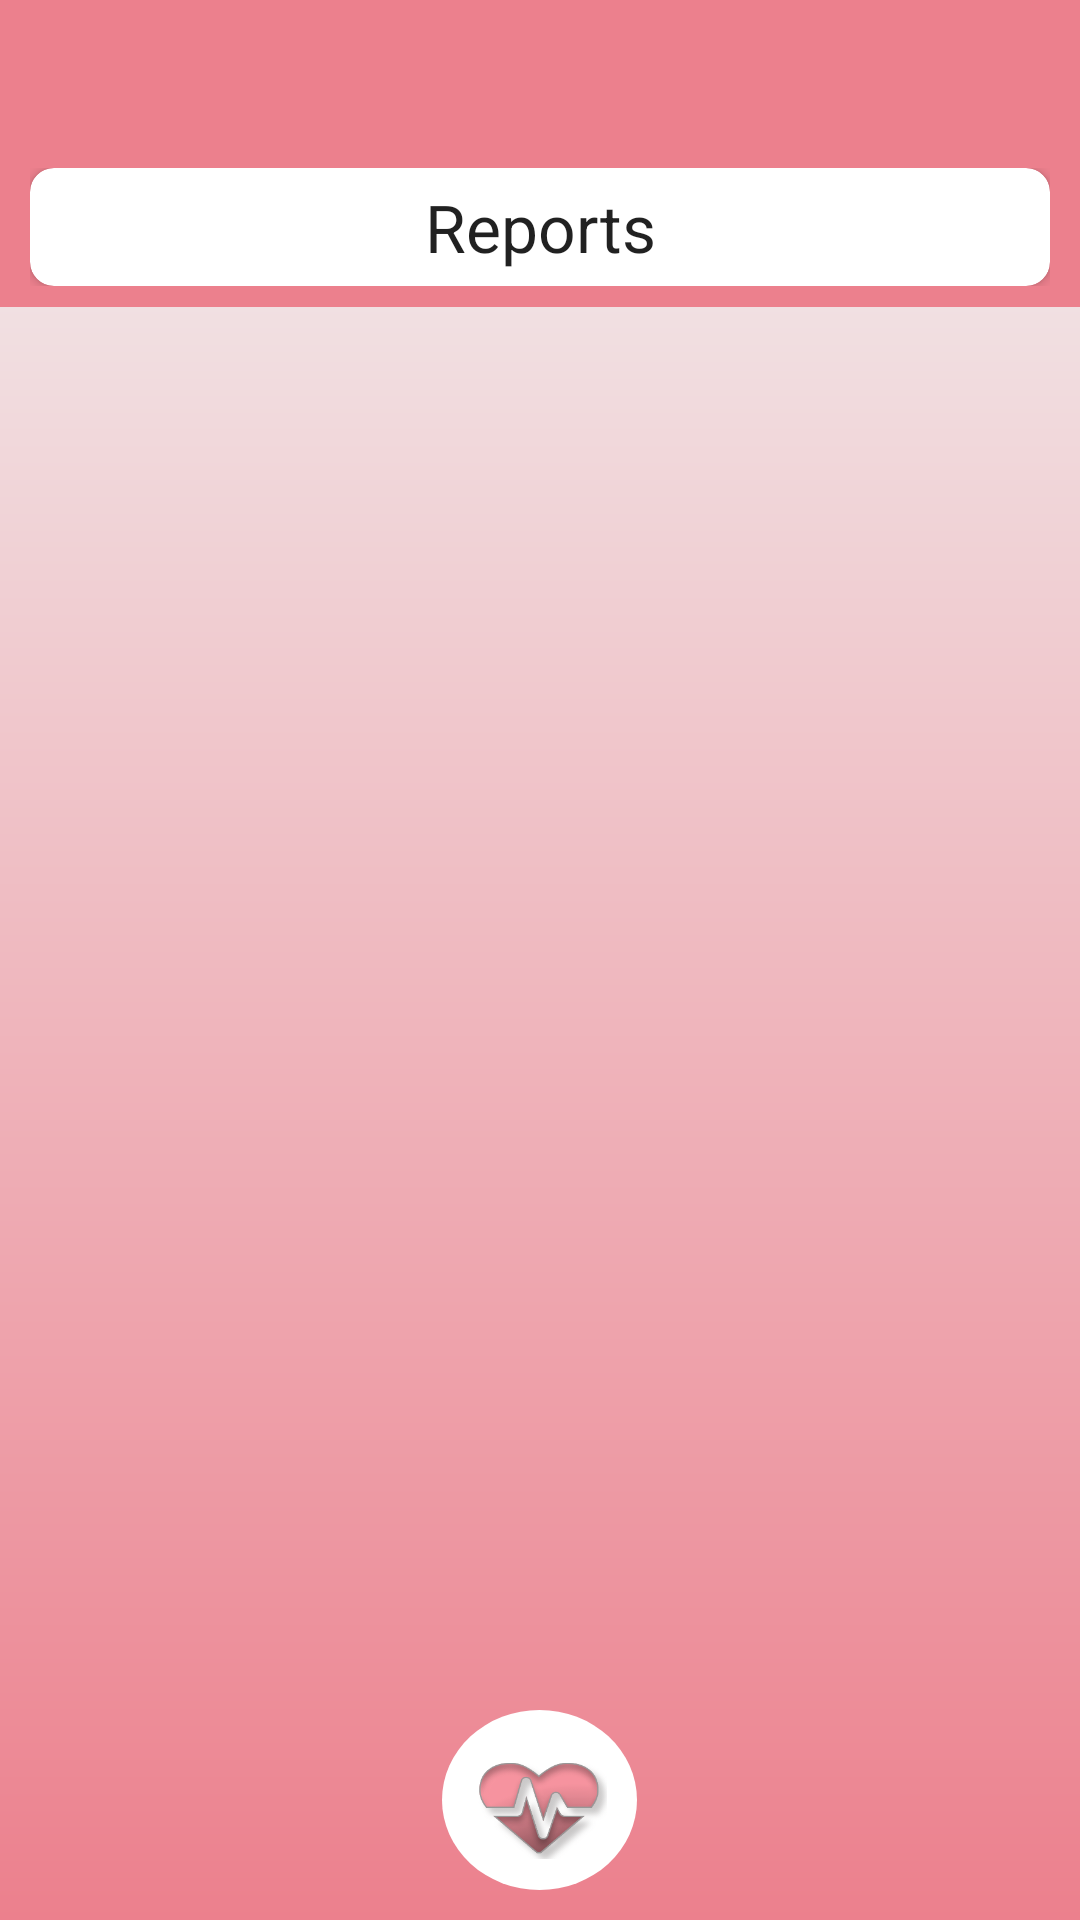

Point at icon controls on the screen. Image size 1080w x 1920h, points as [x,y].
heart: [539,1800]
